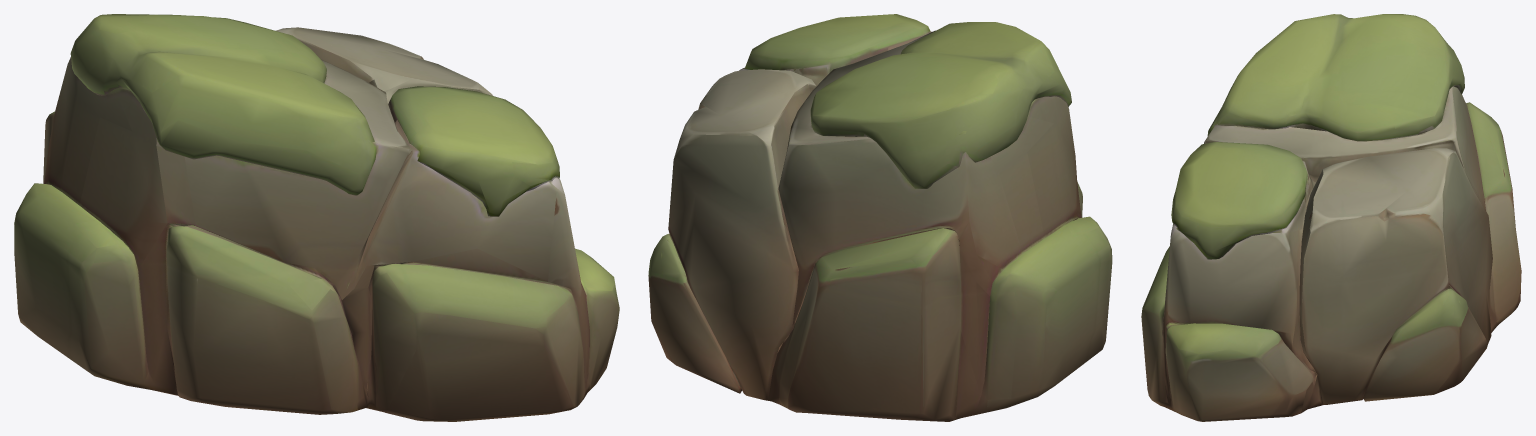
Rendered from Rock_B_LOD1.fbx.
3 renders of one model, left to right at view 1: azimuth 30°, elevation 25°; view 2: azimuth 150°, elevation 25°; view 3: azimuth 270°, elevation 25°, orthographic. The views are drawn at different scales.
Parts seen in each view (by area): view 1: Rock_B_LOD1; view 2: Rock_B_LOD1; view 3: Rock_B_LOD1.
Boxes of the visible parts, x1,y1,x2,y2 form: Rock_B_LOD1: [14, 14, 619, 421]; Rock_B_LOD1: [648, 14, 1112, 421]; Rock_B_LOD1: [1141, 14, 1521, 421].
Size of the model in its own units: 3 by 2.18 by 2.75.
